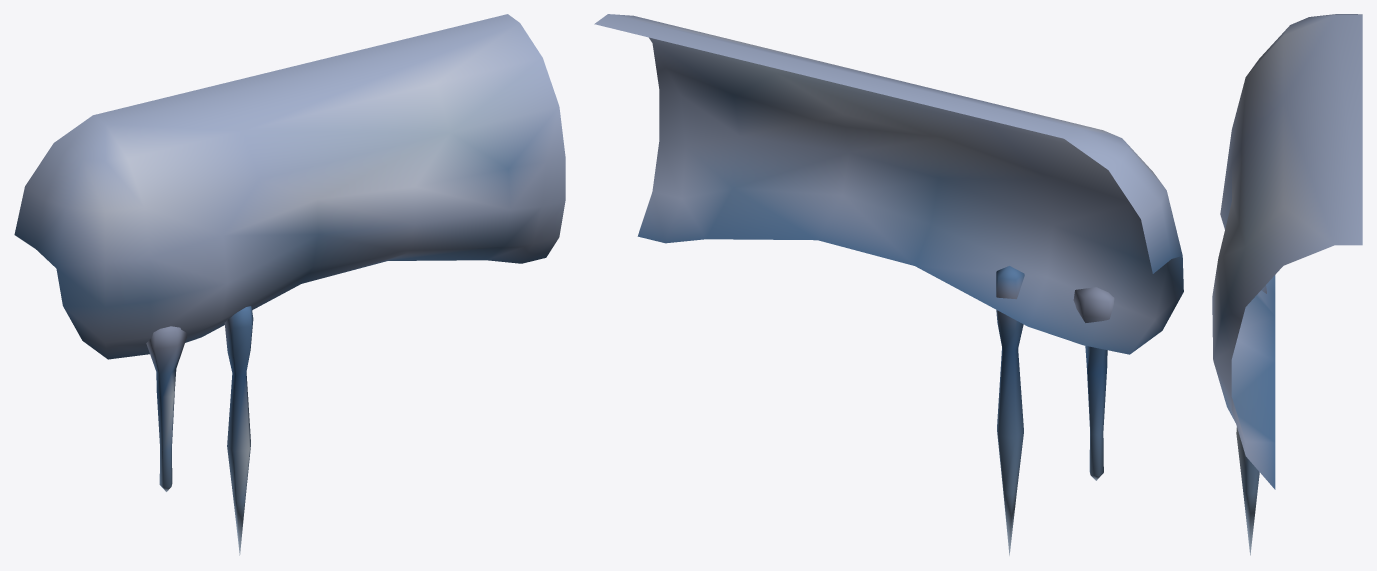
Rendered from Surface_CornerRoad.fbx.
3 renders of one model, left to right at view 1: azimuth 30°, elevation 25°; view 2: azimuth 150°, elevation 25°; view 3: azimuth 270°, elevation 25°, orthographic. The views are drawn at different scales.
Parts seen in each view (by area): view 1: Surface_CornerRoad; view 2: Surface_CornerRoad; view 3: Surface_CornerRoad.
Part boxes in pixels (bbox=[...]): Surface_CornerRoad: bbox=[14, 14, 565, 555]; Surface_CornerRoad: bbox=[594, 14, 1183, 555]; Surface_CornerRoad: bbox=[1212, 14, 1362, 555].
Size of the model in its own units: 2131 by 1771 by 496.
